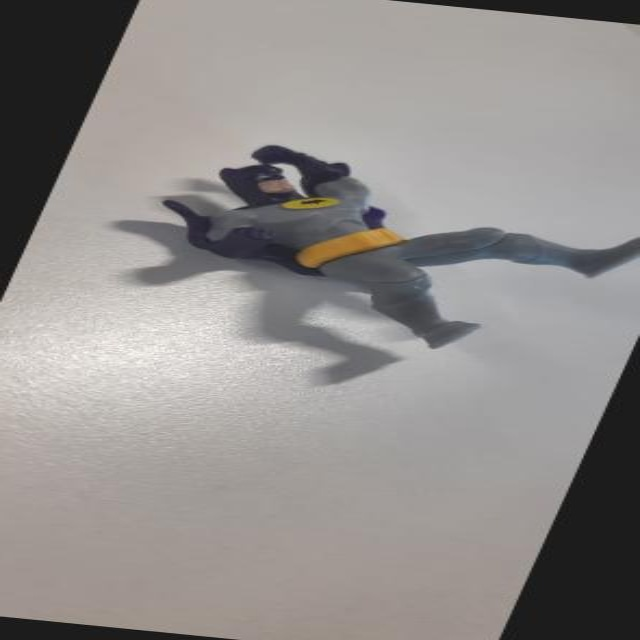Batman: (115, 138, 640, 363)
